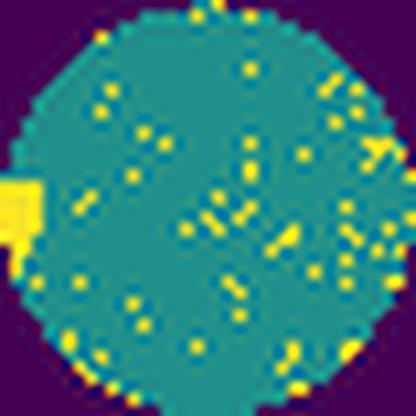Edge-Loc: (0, 169, 52, 287)
